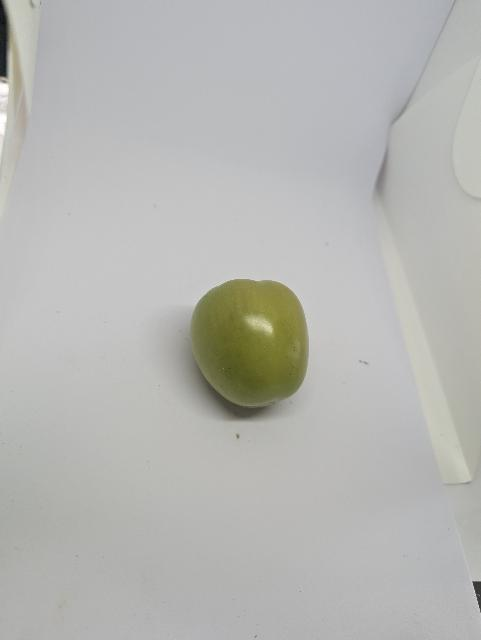green: (176, 270, 315, 415)
